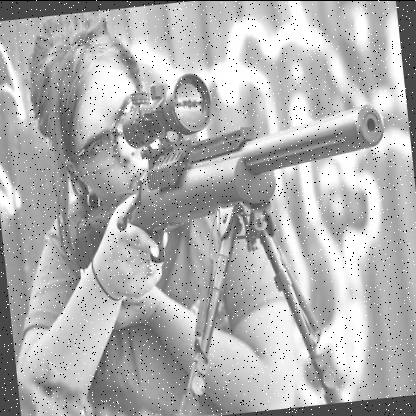rifle: (50, 79, 404, 394)
